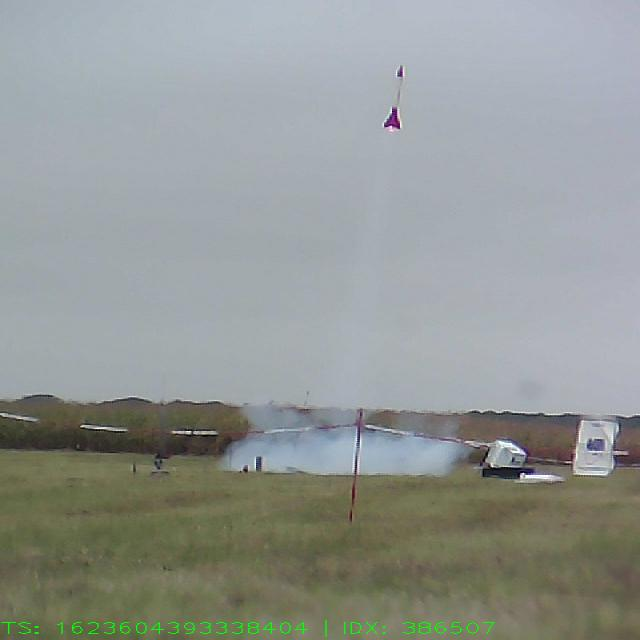Rocket: (382, 64, 406, 130)
